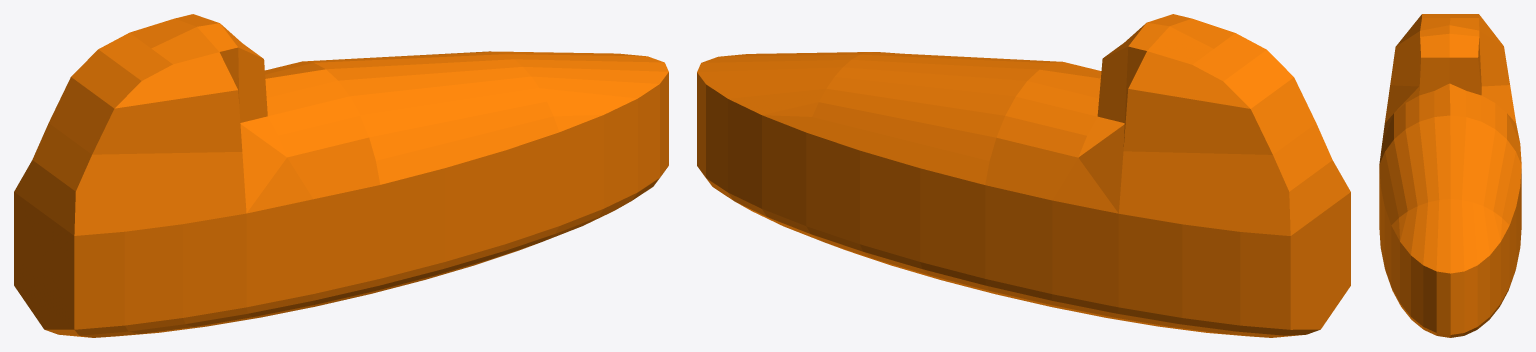
Rendered from lifeboat.glb.
3 views of the same model, side by side, from view 1: azimuth 30°, elevation 25°; view 2: azimuth 150°, elevation 25°; view 3: azimuth 270°, elevation 25° (orthographic). The views are drawn at different scales.
Visible parts, largest first — view 1: Plane.005; view 2: Plane.005; view 3: Plane.005.
Boxes of the visible parts, x1,y1,x2,y2 form: Plane.005: (14, 14, 668, 337); Plane.005: (697, 14, 1350, 337); Plane.005: (1379, 14, 1521, 337).
Size of the model in its own units: 16.48 by 7.2 by 5.
1 material, 1 textured.
